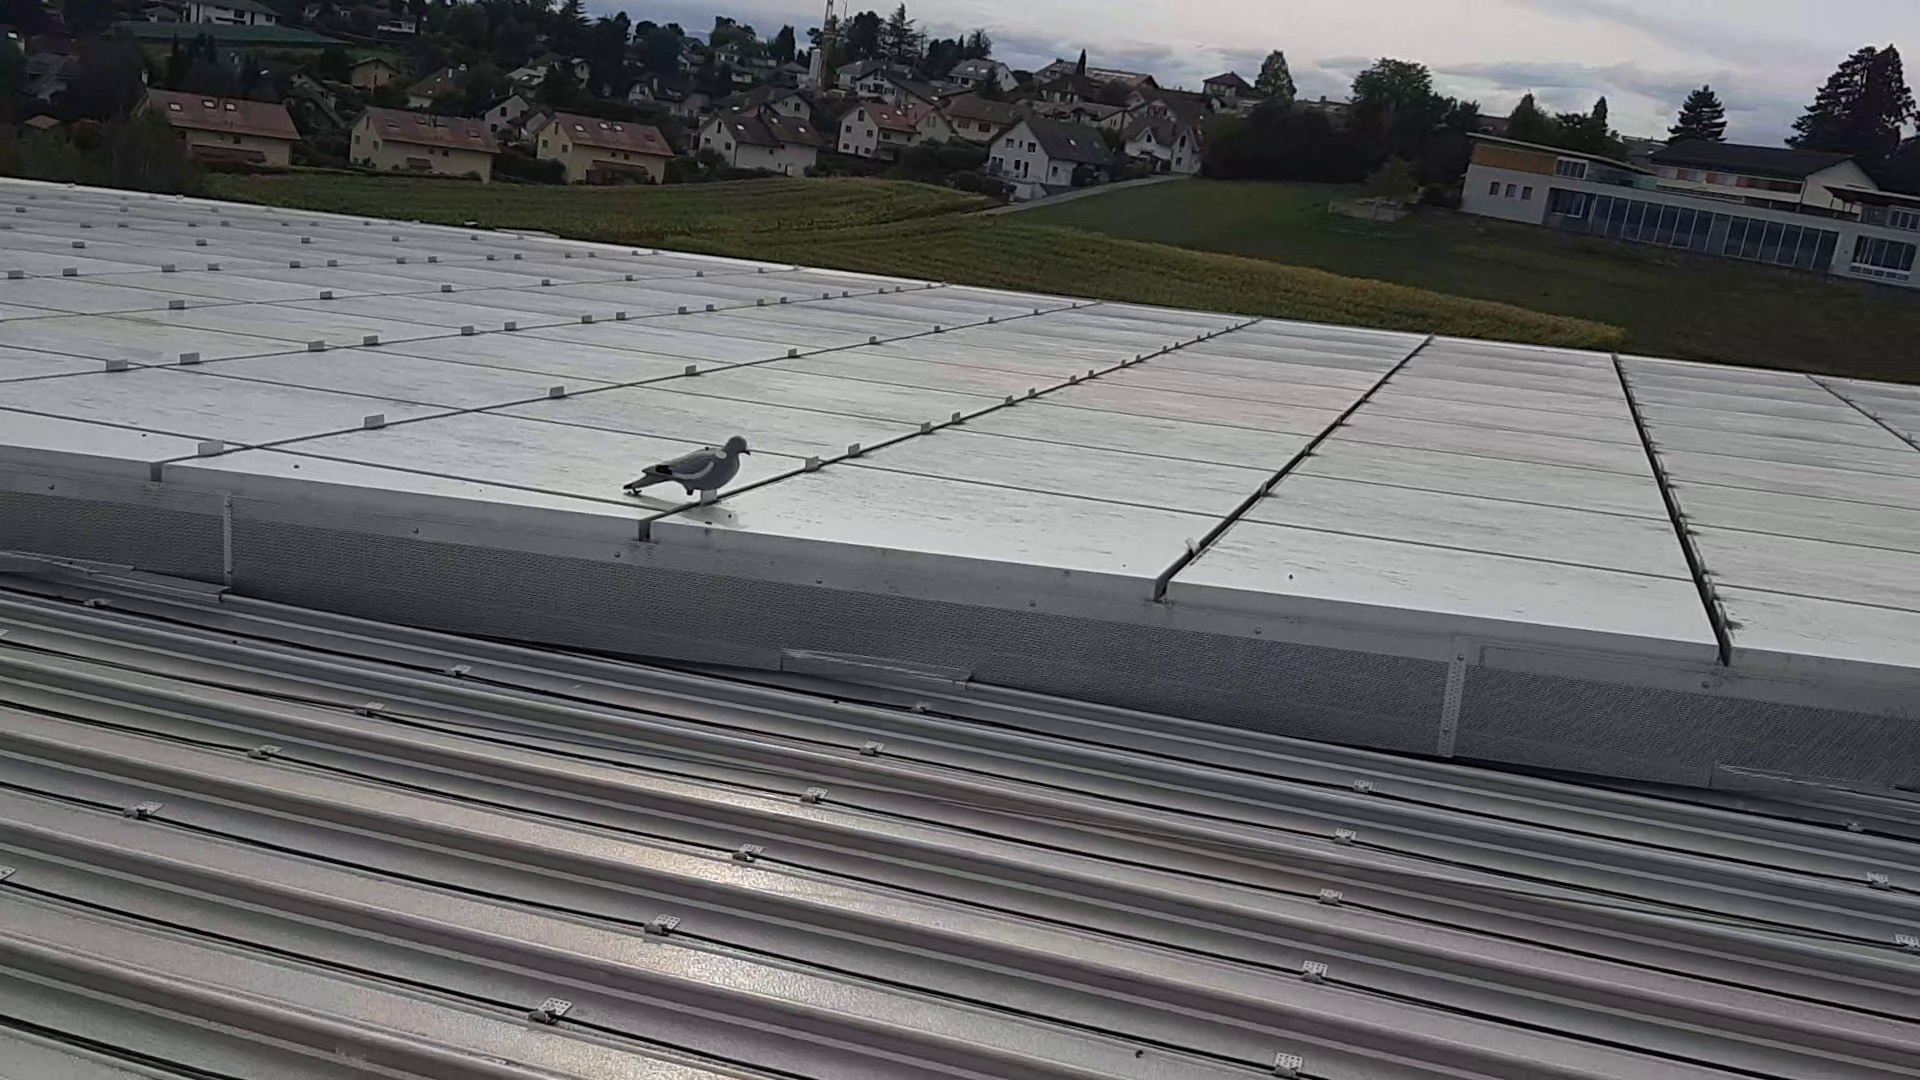Pigeon: (621, 429, 752, 506)
